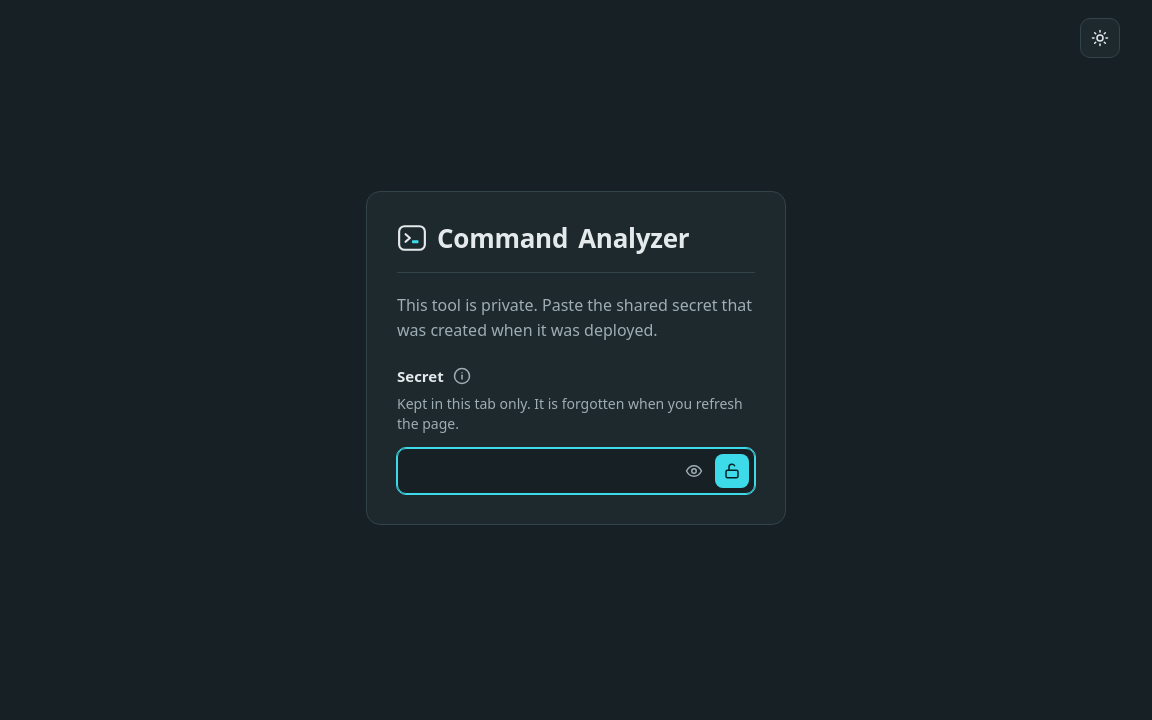
Test case: motion in the app › errors skip the wait panel
This screenshot has width=1152, height=720.
Type "pw" into the password field labelled "Secret" at coordinates (576, 471), box [397, 448, 755, 494]
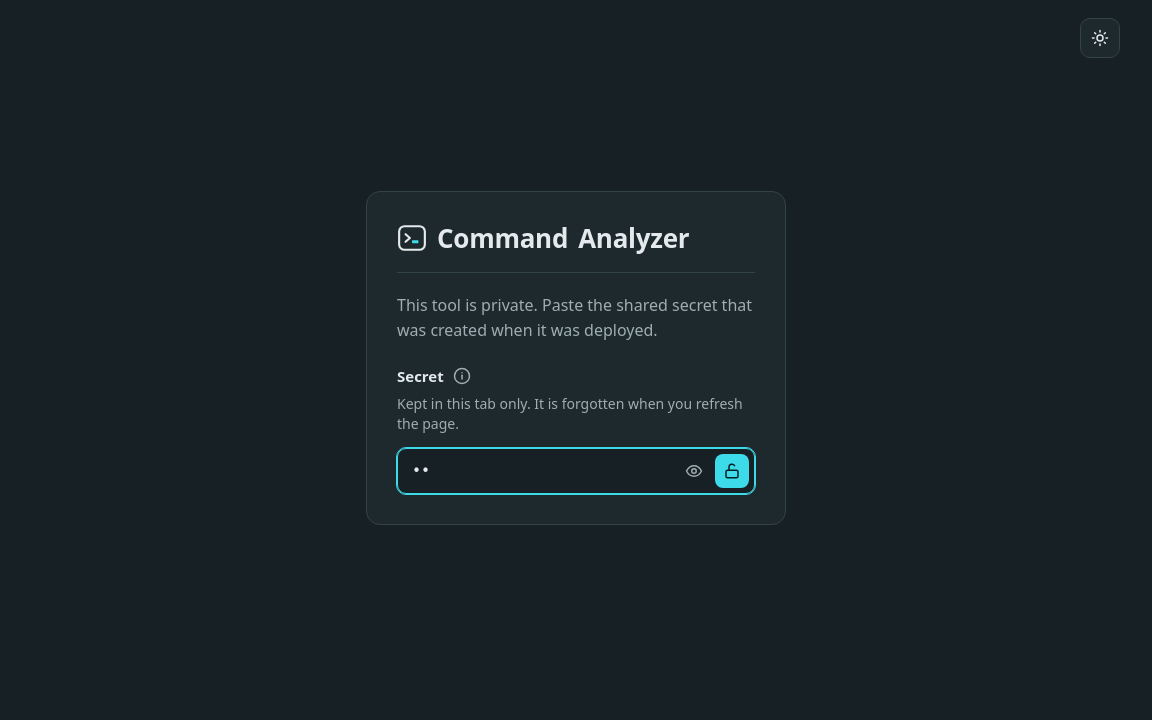
Click the button named "Unlock" at coordinates (732, 471), box [715, 454, 749, 488]
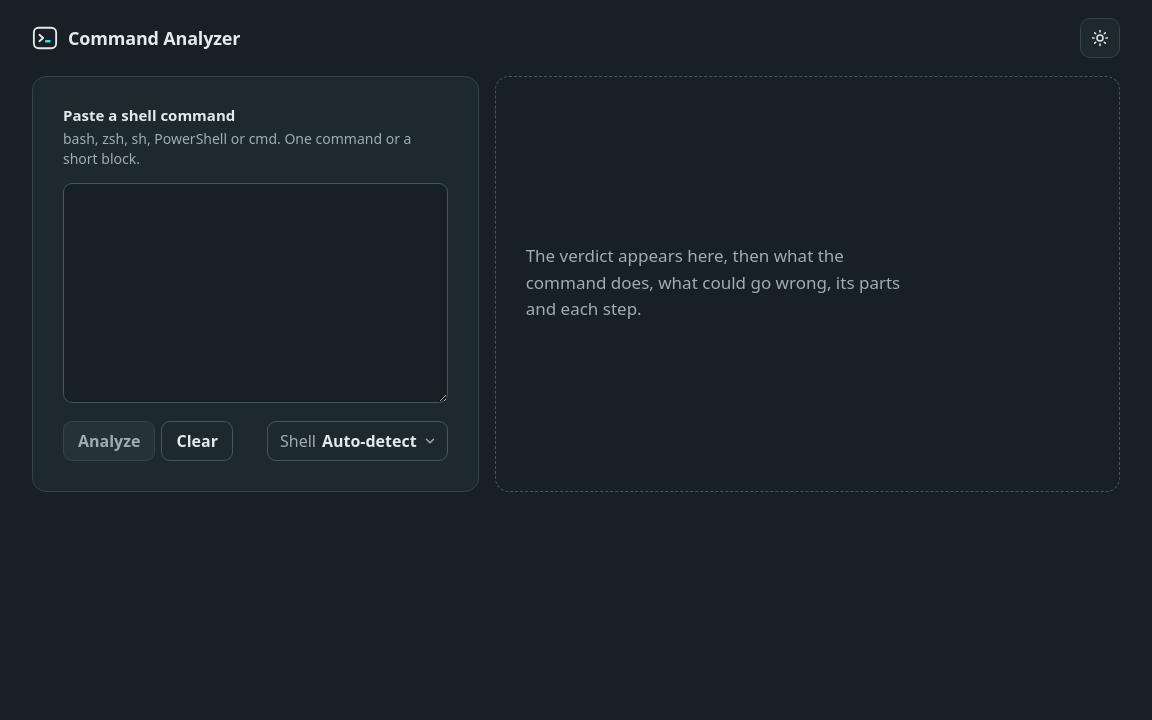
expect the text box labelled "Paste a shell command" is shown: met
Type "ls" into the text box labelled "Paste a shell command" at coordinates (255, 293), box [63, 183, 448, 403]
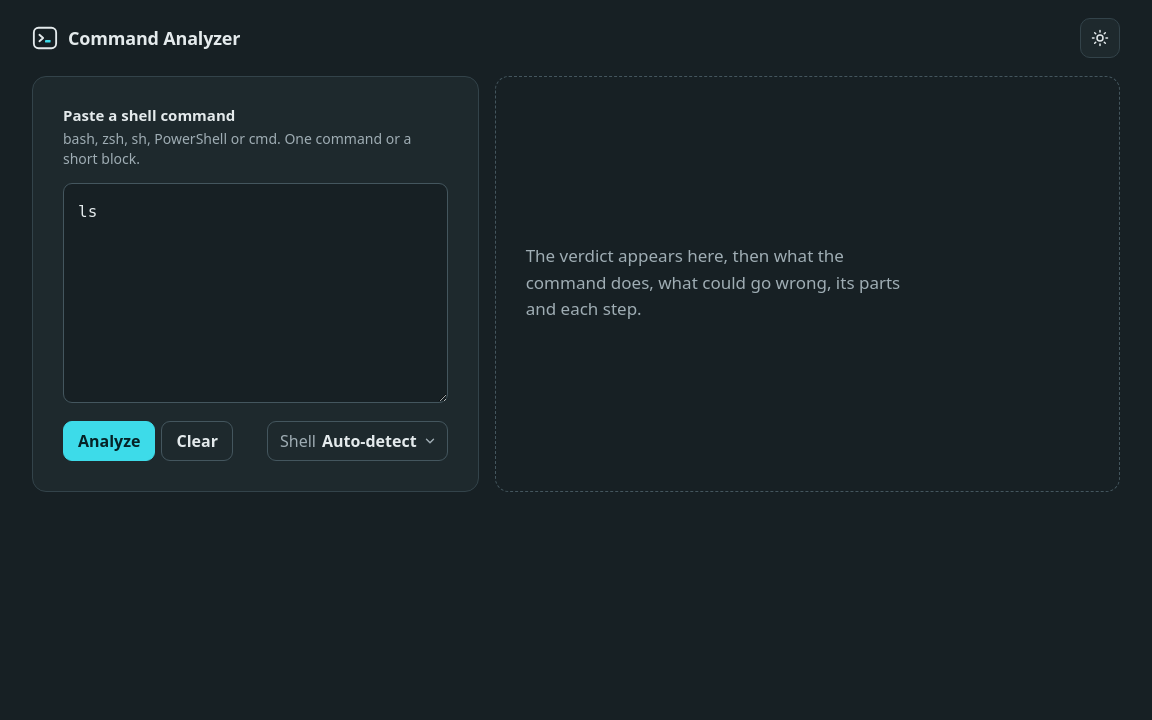
Click the button "Analyze" at coordinates (109, 441), box [63, 421, 156, 461]
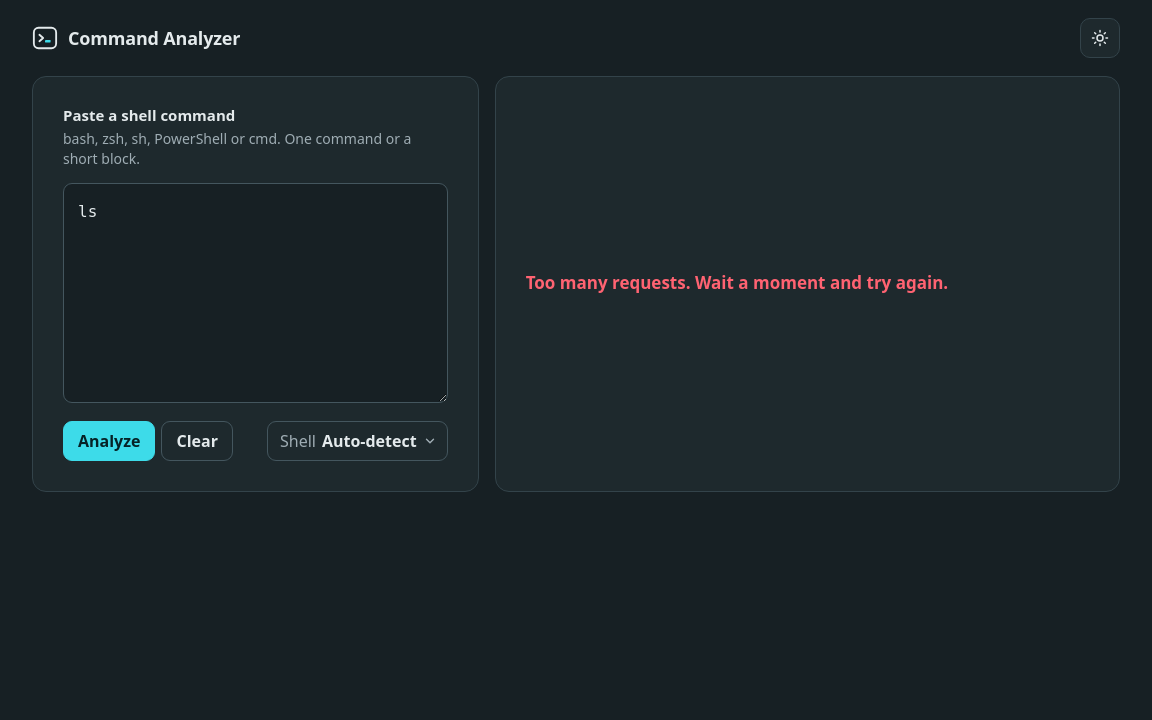
expect the text "Too many requests. Wait a moment and try again." is shown: met, box [526, 270, 948, 296]
